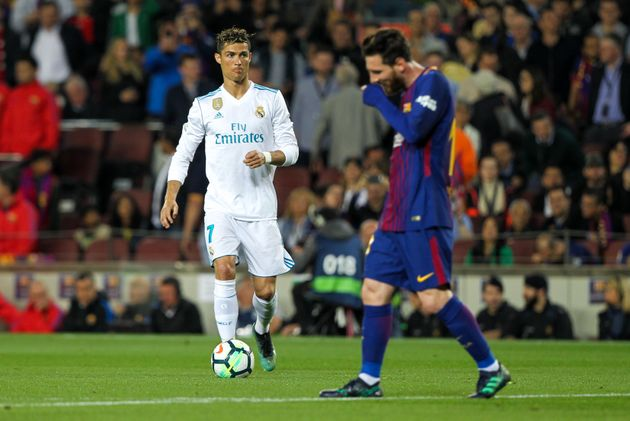barcelona: (335, 36, 519, 406)
realmadrid: (157, 28, 297, 393)
